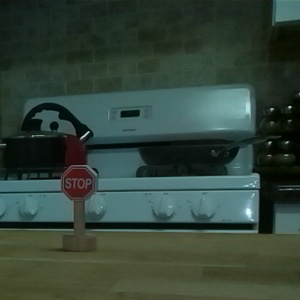stop sign: (58, 162, 103, 253)
